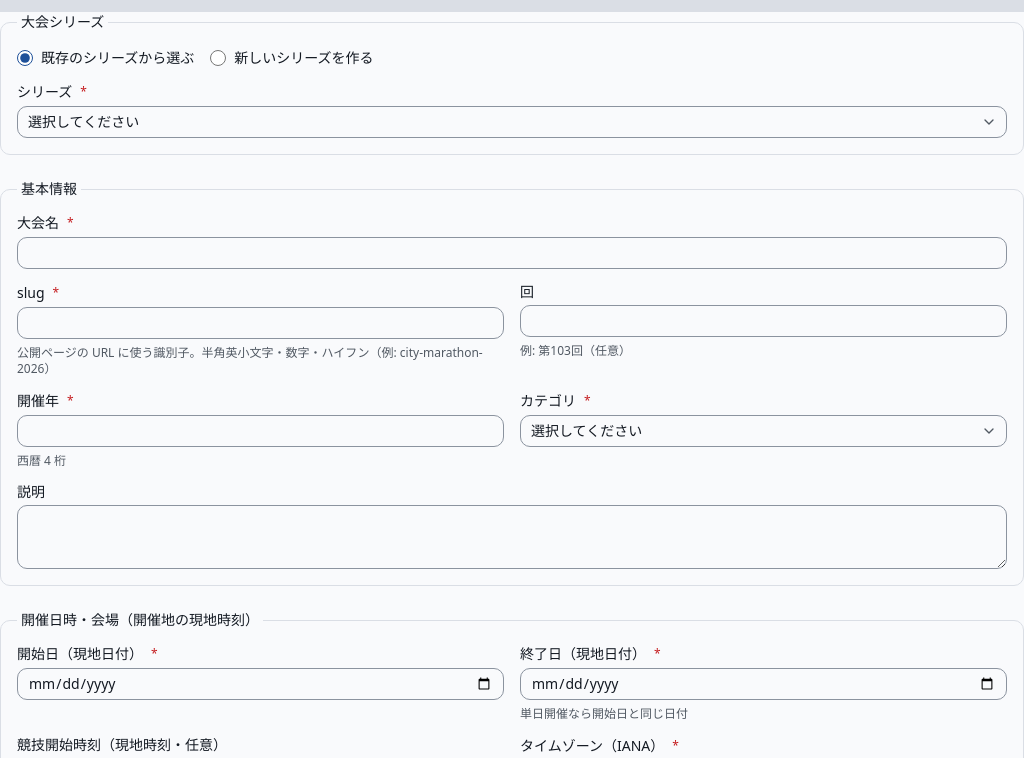
EventForm › 新しいシリーズの作成に切り替えられる
Expected: the dropdown named "シリーズ（必須）" is shown, [17, 106, 1007, 138]
Click the radio button labelled "新しいシリーズを作る": {"x": 218, "y": 58} [210, 50, 226, 66]
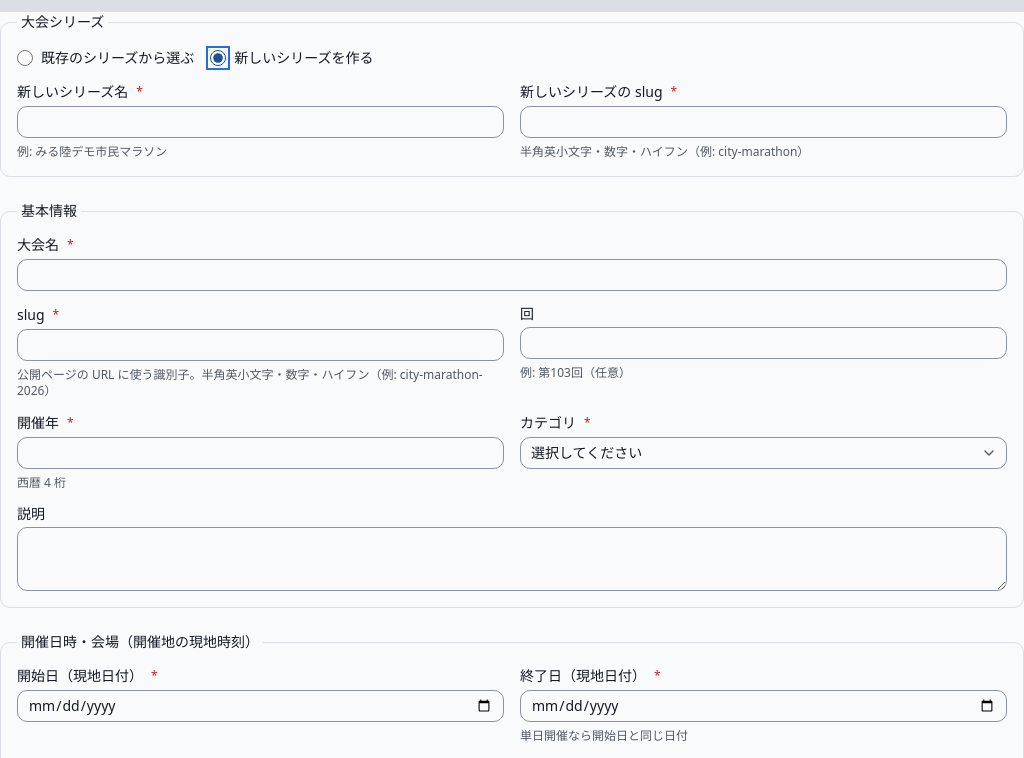
Result: the field named "新しいシリーズ名（必須）" is shown at [17, 106, 504, 138]
